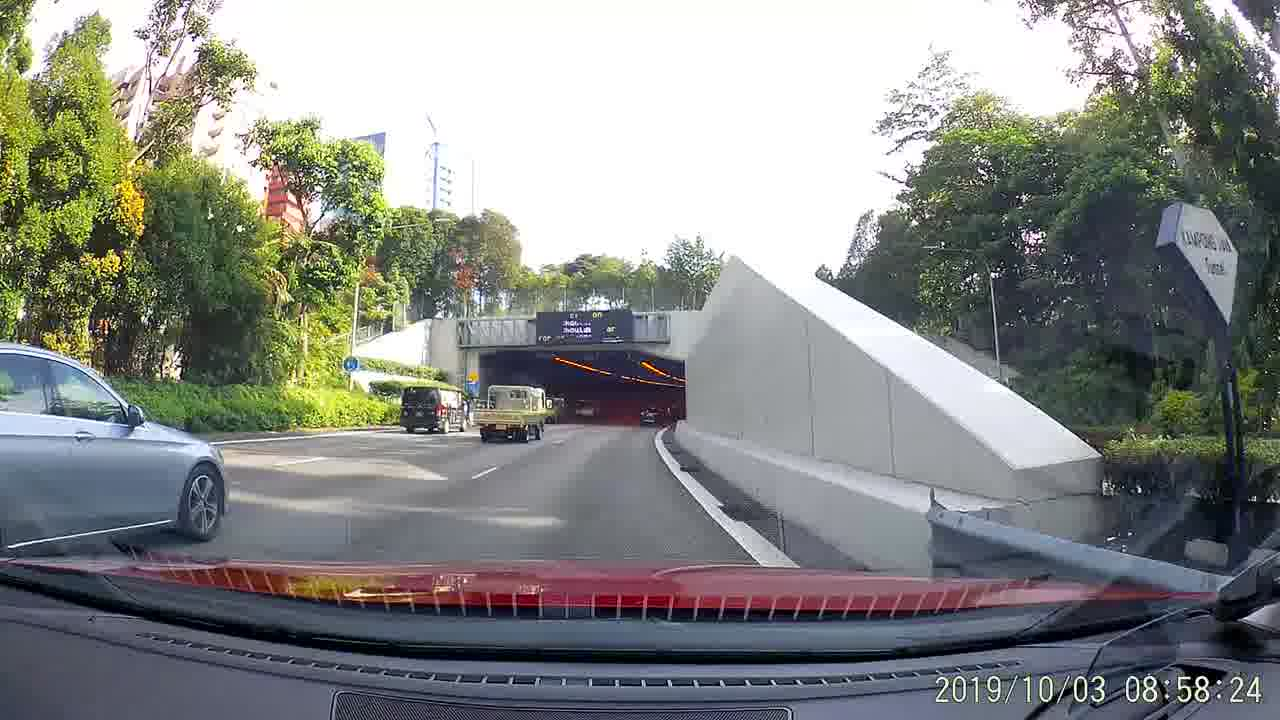car: (0, 342, 230, 540), (637, 405, 662, 427)
